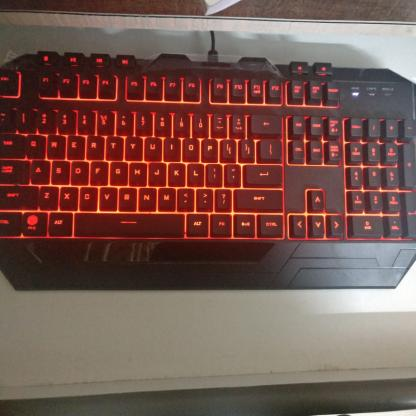mouse: (4, 60, 399, 280)
